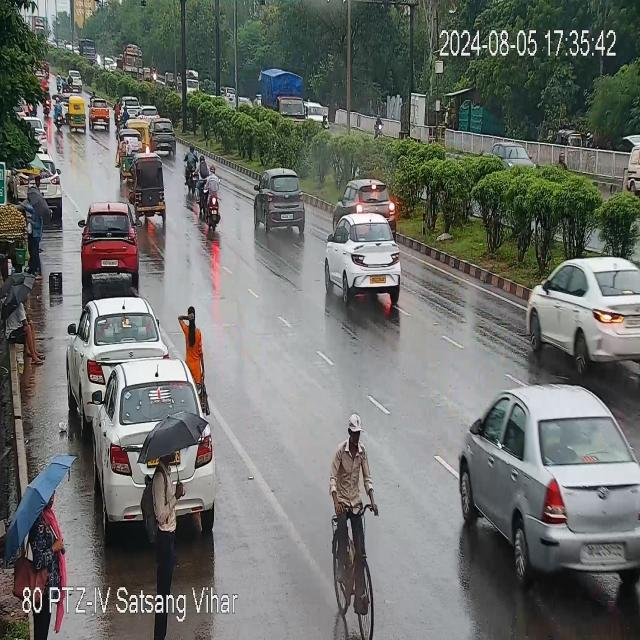2-wheelers: (299, 402, 426, 640), (199, 159, 226, 234), (184, 140, 202, 192), (367, 108, 392, 136), (51, 92, 66, 132), (319, 105, 336, 130), (42, 85, 54, 118), (176, 66, 186, 98), (54, 67, 65, 92)
auto: (132, 140, 172, 244), (112, 125, 150, 184), (130, 98, 164, 139), (66, 90, 90, 139), (88, 97, 114, 138), (163, 70, 176, 92)
car: (448, 332, 640, 611), (87, 348, 224, 534), (522, 241, 640, 387), (324, 209, 407, 314), (250, 151, 311, 246), (77, 202, 144, 287), (19, 147, 69, 230), (344, 175, 402, 242), (485, 134, 547, 174), (150, 108, 181, 163), (621, 114, 640, 196), (22, 115, 54, 154), (304, 100, 342, 130), (138, 94, 165, 129), (120, 94, 140, 126), (67, 65, 87, 92), (101, 49, 117, 72), (222, 84, 236, 101)
pedestrian: (63, 285, 172, 440), (136, 410, 208, 584), (5, 451, 82, 580), (2, 268, 43, 369), (177, 287, 214, 398), (25, 186, 54, 282)
truck: (260, 67, 308, 115), (119, 37, 145, 77), (78, 28, 100, 64)
